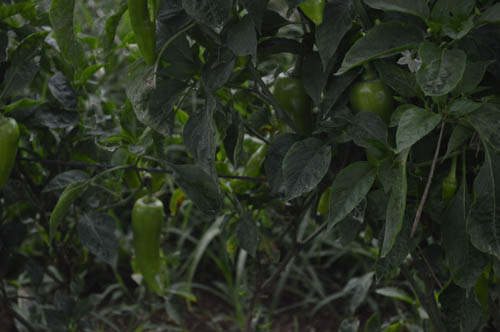ChiliPepper: (119, 197, 168, 285), (355, 80, 400, 164), (272, 78, 316, 130), (125, 9, 154, 61)
